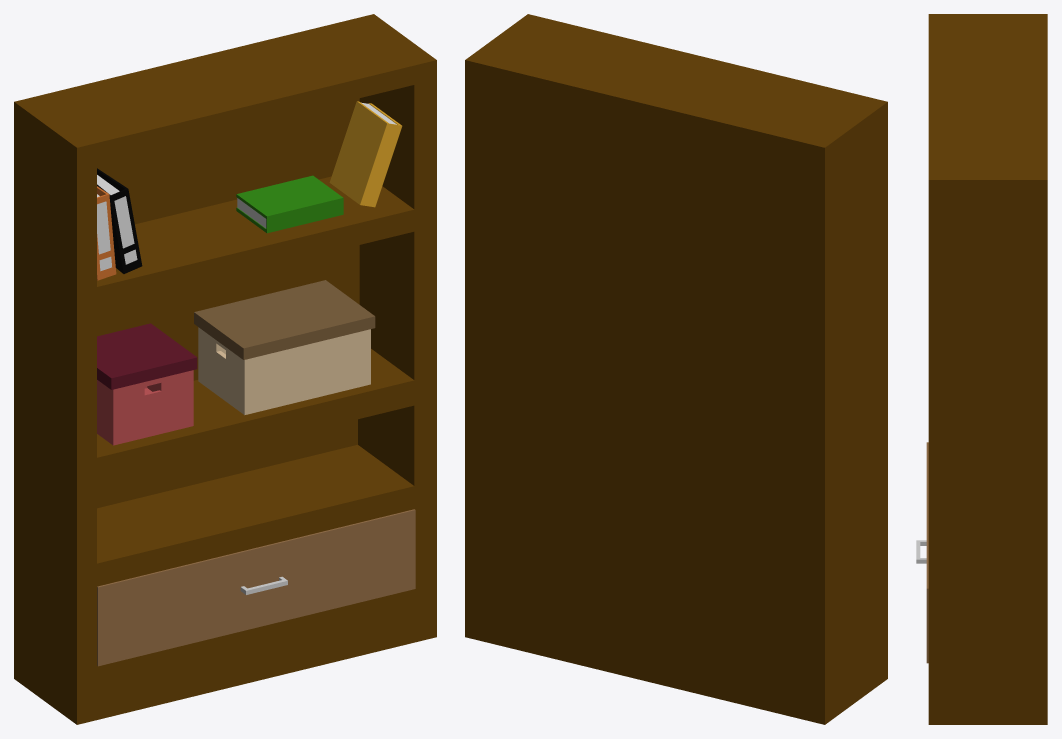
The model's file is H_Bookcase.fbx.
3 views of the same model, side by side, from view 1: azimuth 30°, elevation 25°; view 2: azimuth 150°, elevation 25°; view 3: azimuth 270°, elevation 25° (orthographic). The views are drawn at different scales.
Visible parts, largest first — view 1: H_Bookcase; view 2: H_Bookcase; view 3: H_Bookcase.
Boxes of the visible parts, left/top/right/bottom form: H_Bookcase: left=14, top=14, right=436, bottom=724; H_Bookcase: left=465, top=14, right=887, bottom=724; H_Bookcase: left=916, top=14, right=1047, bottom=724.
Size of the model in its own units: 810 by 271 by 1241.
